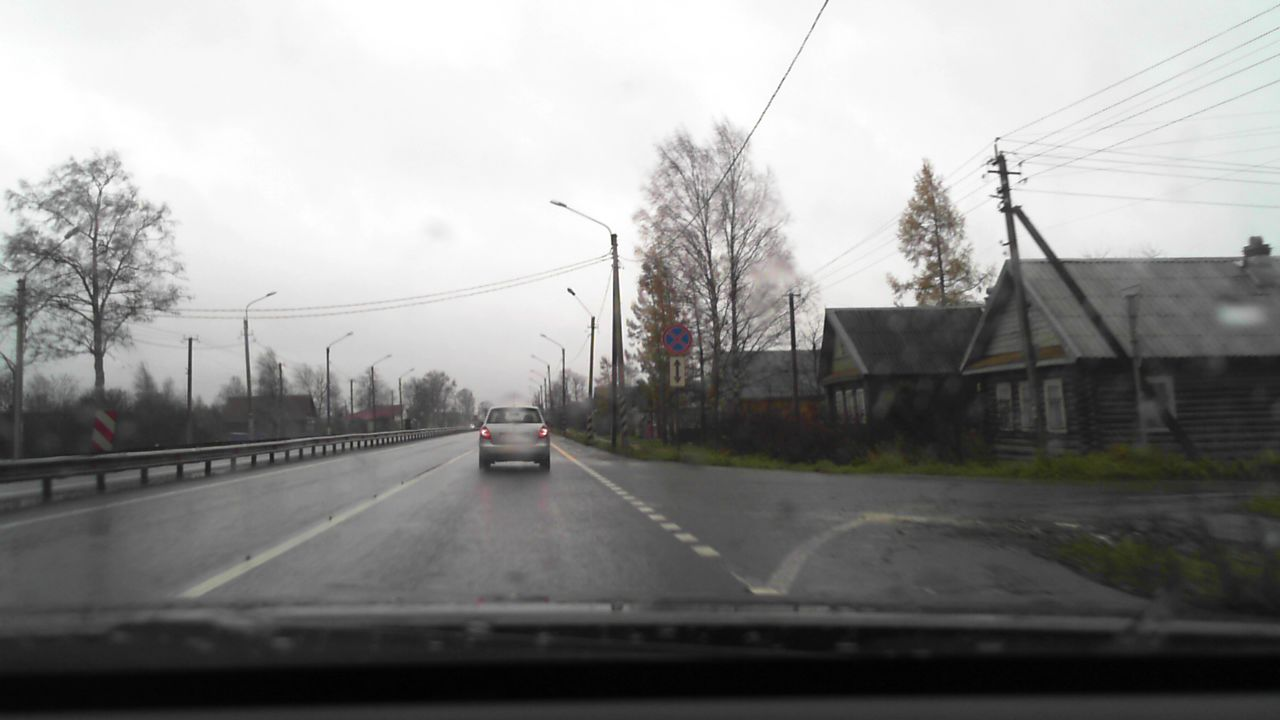No Parking: (661, 324, 692, 355)
